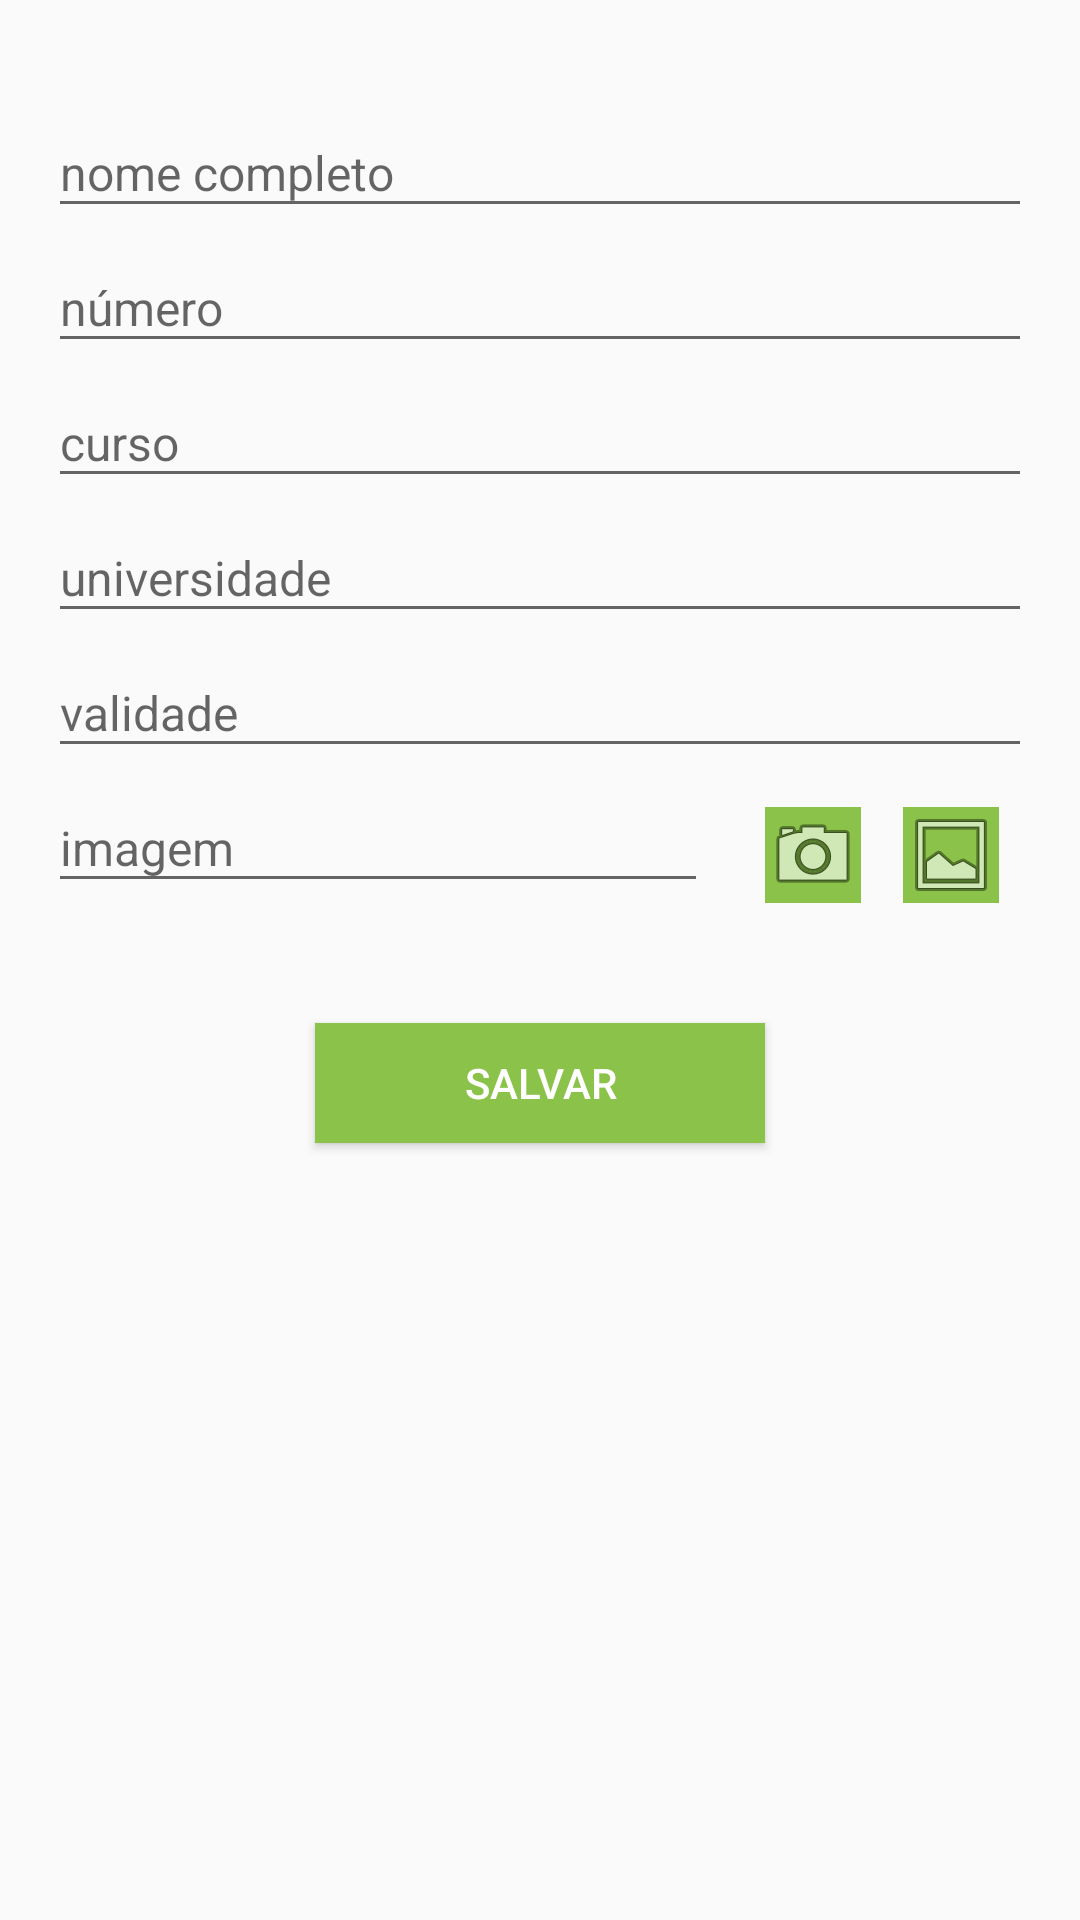

Where icons sit on this 1080 x 1920 app screen, as (x1, y1, x2, y2):
camera: (765, 807, 861, 903)
gallery: (903, 807, 999, 903)
